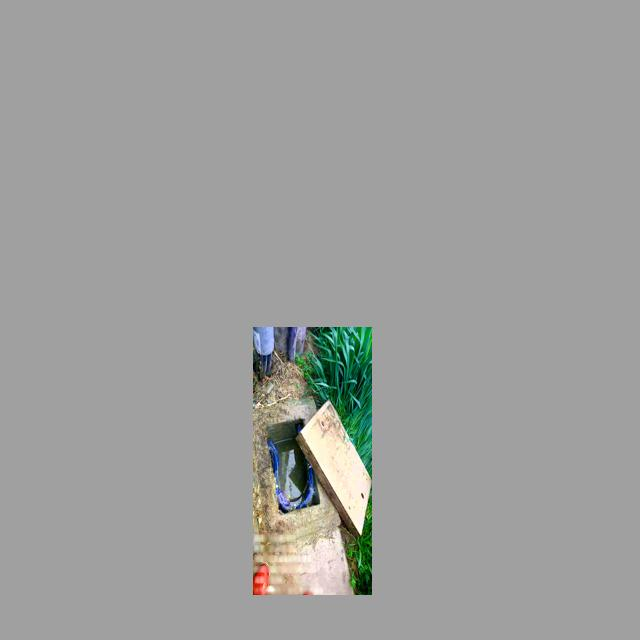uncovered: (253, 396, 371, 540)
